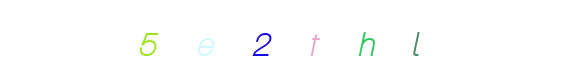2: (223, 0, 303, 80)
5: (108, 0, 188, 80)
E: (222, 0, 302, 80)
H: (275, 0, 355, 80)
L: (342, 0, 422, 80)
T: (250, 0, 330, 80)
